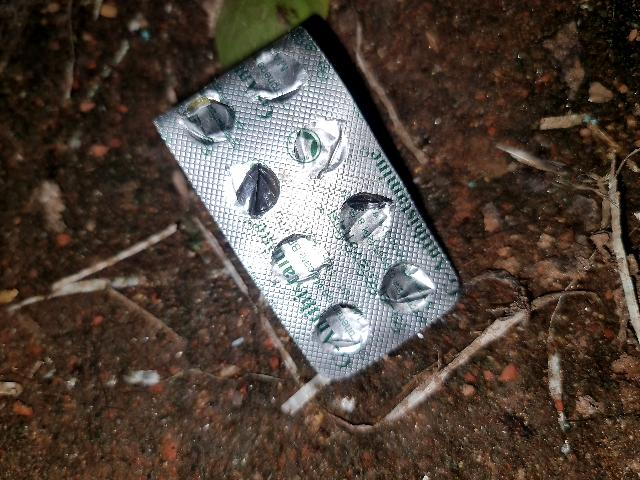medicine: (149, 15, 465, 384)
